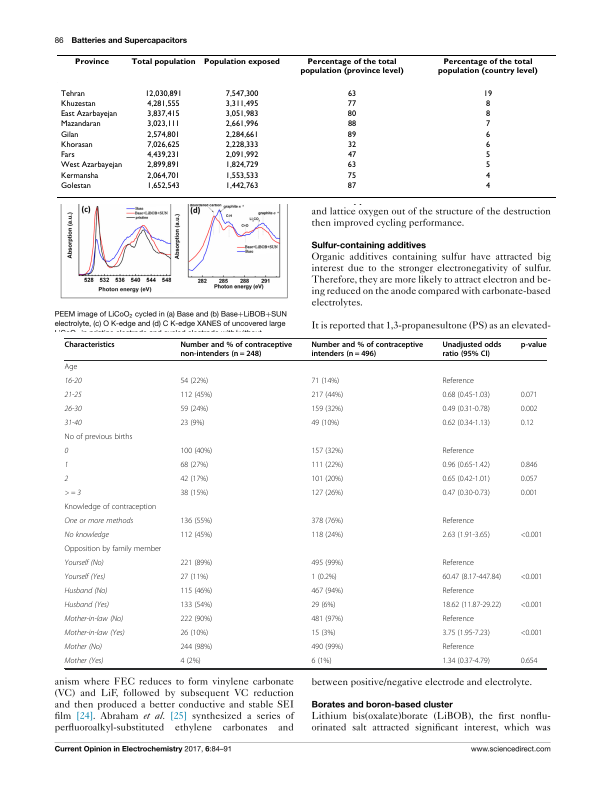borderless: (63, 337, 546, 668), (56, 53, 556, 197)
cell: (179, 341, 293, 359), (310, 341, 424, 359), (299, 58, 404, 76), (437, 58, 538, 76), (441, 341, 502, 359), (64, 545, 162, 555), (64, 503, 157, 513), (203, 58, 280, 67), (64, 433, 133, 443), (64, 517, 134, 526), (441, 573, 502, 583), (441, 601, 502, 611), (130, 58, 196, 67), (59, 161, 123, 170), (64, 629, 126, 638), (64, 615, 124, 624), (59, 110, 118, 119), (441, 391, 491, 401), (441, 405, 491, 415), (441, 419, 491, 429), (441, 461, 491, 471), (441, 475, 491, 485), (441, 489, 491, 499), (441, 531, 491, 541), (441, 629, 491, 639), (441, 657, 491, 667), (64, 341, 116, 350), (64, 531, 110, 541), (64, 601, 110, 610), (59, 171, 99, 181), (64, 587, 108, 596), (144, 89, 182, 99), (64, 573, 106, 582), (59, 120, 101, 129), (59, 99, 96, 109), (64, 559, 105, 568), (64, 657, 104, 666), (64, 643, 103, 652), (224, 89, 259, 99), (224, 99, 259, 109), (224, 130, 259, 140), (224, 140, 259, 150), (224, 171, 259, 181), (224, 181, 259, 191), (441, 377, 475, 387), (179, 391, 213, 401), (310, 391, 344, 401), (310, 405, 344, 415), (179, 447, 213, 457), (310, 447, 344, 457), (441, 447, 475, 457), (310, 461, 344, 471), (310, 475, 344, 485), (310, 489, 344, 499), (179, 517, 213, 527), (310, 517, 344, 527), (441, 517, 475, 527), (179, 531, 213, 541), (310, 531, 344, 541), (179, 559, 213, 569), (310, 559, 344, 569), (441, 559, 475, 569), (179, 587, 213, 597), (310, 587, 344, 597), (441, 587, 475, 597), (179, 601, 213, 611), (179, 615, 213, 625), (310, 615, 344, 625), (441, 615, 475, 625), (179, 643, 213, 653), (310, 643, 344, 653), (441, 643, 475, 653), (146, 99, 180, 109), (146, 130, 180, 140), (59, 140, 93, 150), (146, 140, 180, 150), (146, 171, 180, 181), (146, 181, 180, 191), (59, 181, 91, 191), (74, 58, 109, 67), (224, 110, 259, 119), (224, 120, 259, 129), (224, 151, 259, 160), (224, 161, 259, 170), (146, 110, 180, 119), (146, 120, 180, 129), (146, 151, 180, 160), (146, 161, 180, 170), (179, 377, 209, 387), (310, 377, 340, 387), (179, 405, 209, 415), (310, 419, 340, 429), (179, 461, 209, 471), (179, 475, 209, 485), (179, 489, 209, 499), (179, 573, 209, 583), (179, 629, 209, 639), (310, 573, 338, 583), (179, 419, 205, 429), (310, 601, 336, 611), (310, 629, 336, 639), (59, 89, 85, 99), (520, 341, 547, 350), (520, 531, 543, 541), (520, 573, 543, 583), (520, 601, 543, 611), (520, 629, 543, 639), (179, 657, 201, 667), (310, 657, 332, 667), (59, 130, 79, 140), (520, 391, 538, 401), (520, 405, 538, 415), (520, 461, 538, 471), (520, 475, 538, 485), (520, 489, 538, 499), (520, 657, 538, 667), (64, 377, 82, 386), (64, 391, 82, 400), (64, 405, 82, 414), (64, 419, 82, 428), (64, 489, 82, 498), (520, 419, 535, 429), (59, 151, 75, 160), (64, 363, 78, 373), (346, 89, 357, 99), (482, 89, 493, 99), (346, 99, 357, 109), (346, 130, 357, 140), (346, 140, 357, 150), (346, 171, 357, 181), (346, 181, 357, 191), (346, 110, 357, 119), (346, 120, 357, 129), (346, 151, 357, 160), (346, 161, 357, 170), (484, 140, 491, 150), (484, 181, 491, 191), (484, 110, 491, 119), (484, 120, 491, 129), (484, 151, 491, 160), (484, 161, 491, 170), (484, 99, 490, 109), (484, 130, 490, 140), (484, 171, 490, 181), (64, 447, 69, 456), (64, 461, 69, 470), (64, 475, 69, 484)
